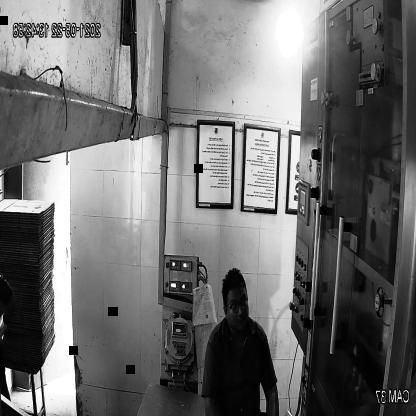goggles: (223, 292, 251, 314)
